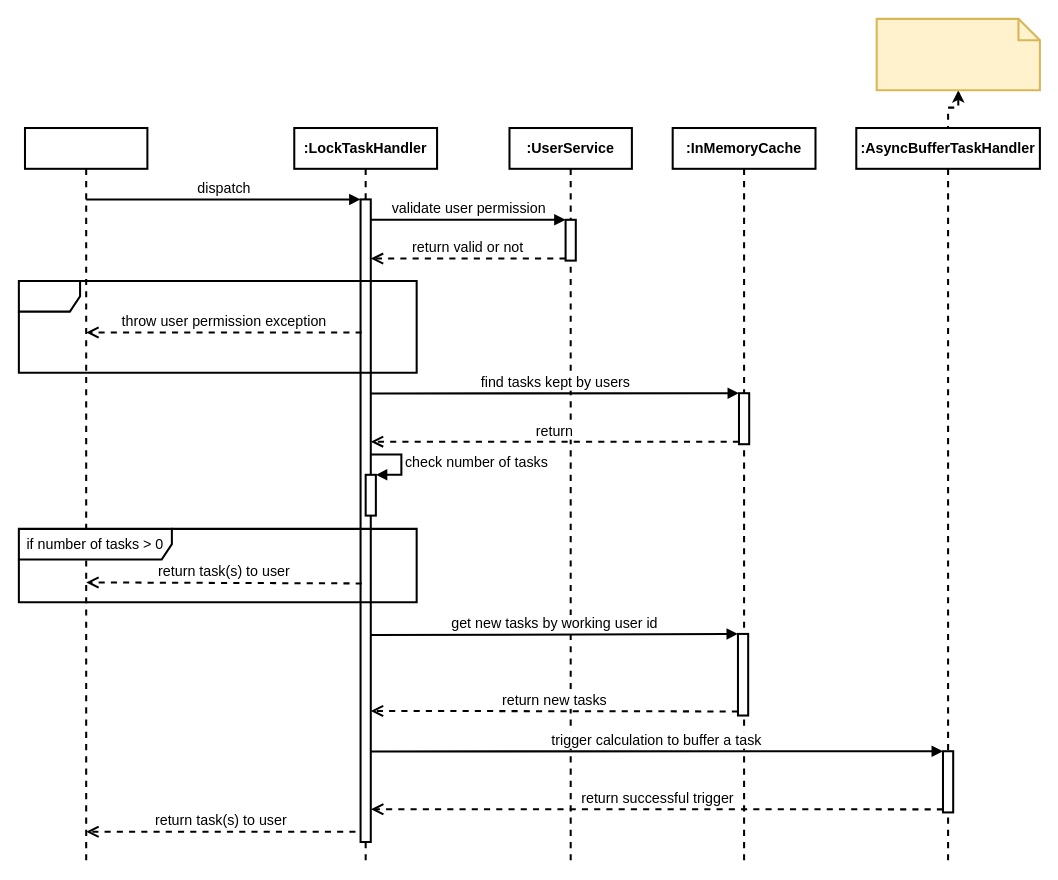
This 1058x880 diagram has some shape labels left out. Each missing label, with the centre of its shape:
":User" belongs at (x=85, y=494).
"for Item only" belongs at (x=957, y=54).
"if invalid" belongs at (x=217, y=326).
